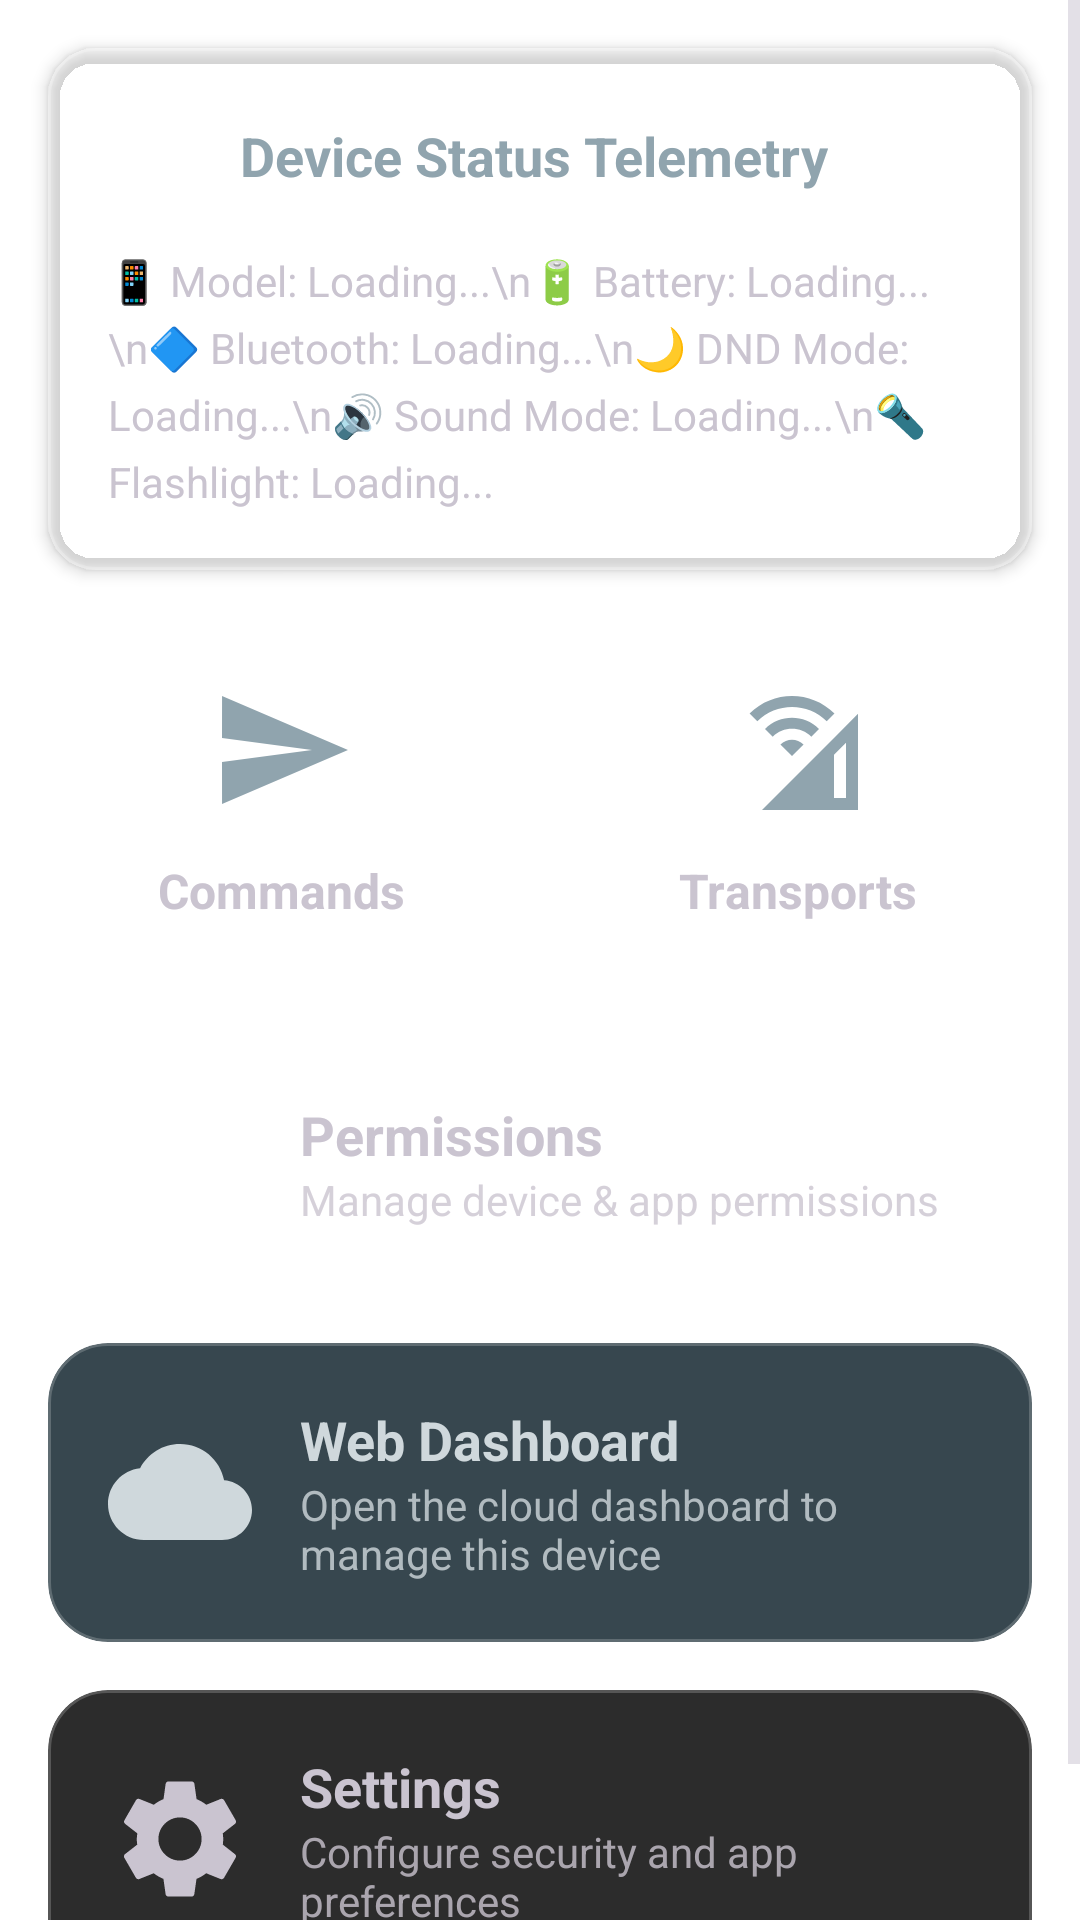

Where to tap for icons on this 1080w x 1920h app screen, as point (x, y):
cell wifi: point (804, 753)
send: point (284, 750)
